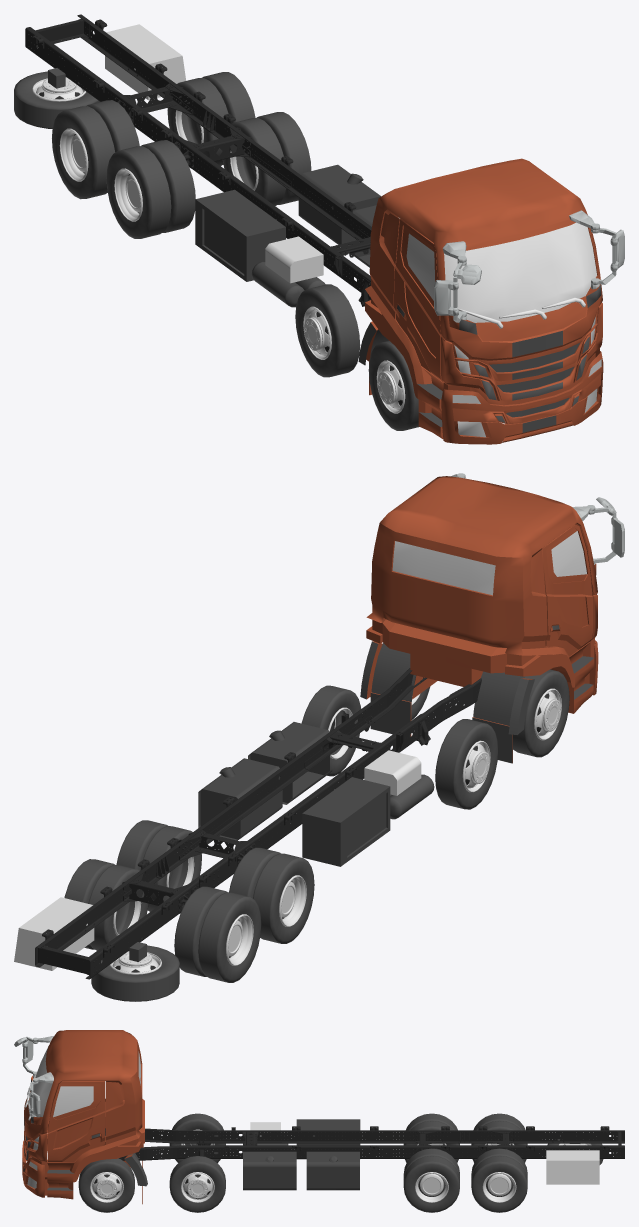
The model's file is simplex truck.fbx.
3 views of the same model, one above another, from view 1: azimuth 30°, elevation 25°; view 2: azimuth 150°, elevation 25°; view 3: azimuth 270°, elevation 25° (orthographic). The views are drawn at different scales.
Parts seen in each view (by area): view 1: Truck_head_Truck_head.L, wheels_Circle, Ic387637 Phantom Asm.001, Truck_Toolbox1, Truck_door.R, Truck_Brakesys, wheel_Circle.001, Truck_Fueltank02, Truck_Toolbox, Truck_backmirror.L, Truck_backmirror.R, Cube.001; view 2: Truck_head_Truck_head.L, wheels_Circle, Ic387637 Phantom Asm.001, Truck_Toolbox1, Truck_door.R, wheel_Circle.001, Truck_Fueltank02, Truck_Fueltank01, Truck_Brakesys, Truck_Toolbox, Truck_backmirror.L; view 3: wheels_Circle, Truck_head_Truck_head.L, Ic387637 Phantom Asm.001, Truck_door.L, Truck_Fueltank01, Truck_Fueltank02, Truck_Toolbox, Truck_Toolbox1, Truck_backmirror.L, Truck_backmirror.R, Truck_Brakesys.
Part boxes in pixels (left/top/right/bottom): Truck_head_Truck_head.L: left=358, top=158, right=603, bottom=444; wheels_Circle: left=52, top=72, right=419, bottom=430; Ic387637 Phantom Asm.001: left=25, top=14, right=371, bottom=306; Truck_Toolbox1: left=195, top=189, right=285, bottom=281; Truck_door.R: left=394, top=219, right=442, bottom=381; Truck_Brakesys: left=251, top=236, right=325, bottom=307; wheel_Circle.001: left=14, top=68, right=99, bottom=128; Truck_Fueltank02: left=298, top=164, right=380, bottom=245; Truck_Toolbox: left=105, top=24, right=186, bottom=100; Truck_backmirror.L: left=434, top=241, right=481, bottom=322; Truck_backmirror.R: left=569, top=210, right=624, bottom=289; Cube.001: left=458, top=297, right=585, bottom=328; Truck_head_Truck_head.L: left=360, top=476, right=598, bottom=763; wheels_Circle: left=64, top=669, right=569, bottom=982; Ic387637 Phantom Asm.001: left=35, top=668, right=481, bottom=979; Truck_Toolbox1: left=302, top=777, right=390, bottom=866; Truck_door.R: left=541, top=524, right=592, bottom=656; wheel_Circle.001: left=91, top=942, right=179, bottom=1001; Truck_Fueltank02: left=198, top=758, right=282, bottom=840; Truck_Fueltank01: left=248, top=722, right=332, bottom=804; Truck_Brakesys: left=364, top=750, right=434, bottom=819; Truck_Toolbox: left=14, top=897, right=94, bottom=970; Truck_backmirror.L: left=572, top=497, right=624, bottom=564; wheels_Circle: left=78, top=1113, right=527, bottom=1212; Truck_head_Truck_head.L: left=22, top=1030, right=147, bottom=1204; Ic387637 Phantom Asm.001: left=105, top=1126, right=624, bottom=1160; Truck_door.L: left=48, top=1081, right=104, bottom=1161; Truck_Fueltank01: left=243, top=1151, right=296, bottom=1190; Truck_Fueltank02: left=306, top=1151, right=359, bottom=1190; Truck_Toolbox: left=546, top=1150, right=599, bottom=1184; Truck_Toolbox1: left=296, top=1119, right=360, bottom=1159; Truck_backmirror.L: left=14, top=1036, right=53, bottom=1077; Truck_backmirror.R: left=29, top=1072, right=53, bottom=1117; Truck_Brakesys: left=243, top=1122, right=288, bottom=1149.
Bounding box in the file's own units: 119 × 132 × 519.
